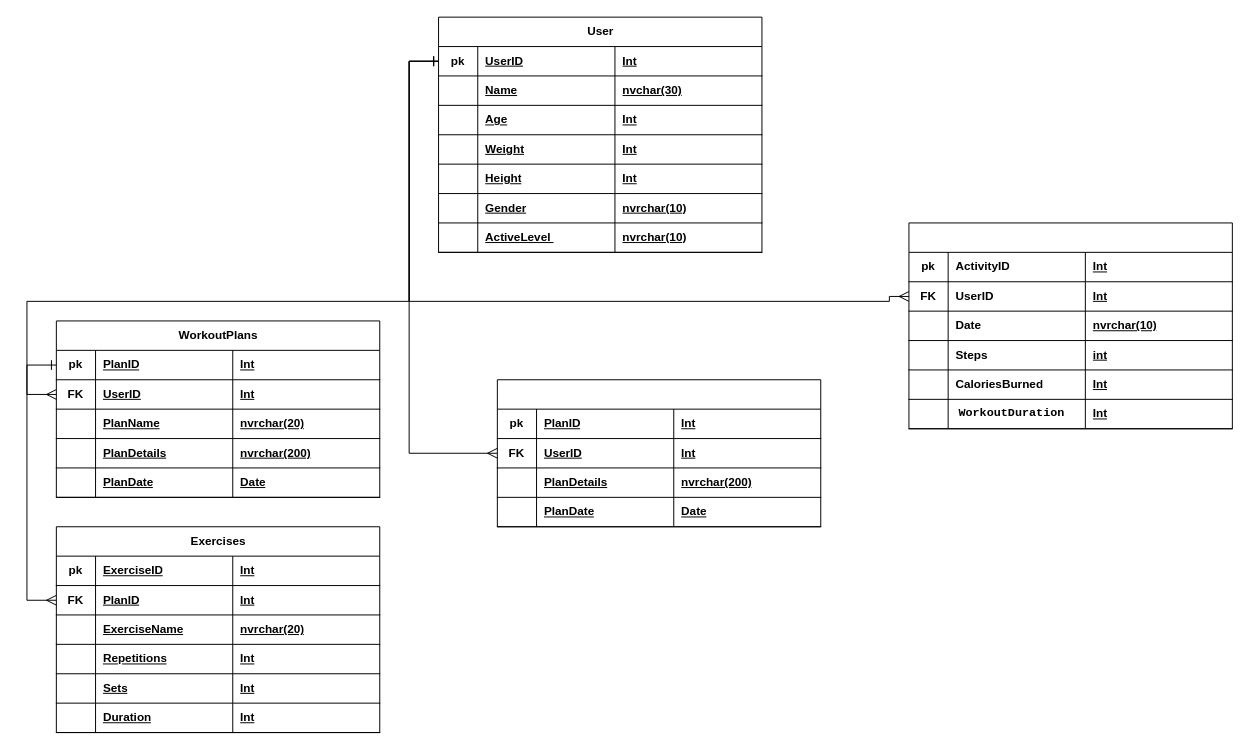
Some shapes in this 1250 by 750 pixel diagram are drawn without their labels. The box of each missing label's shape, as (x1, y1, x2, y2) in pixels:
NutritionPlans: (496, 379, 821, 527)
UserActivities: (908, 222, 1232, 429)
